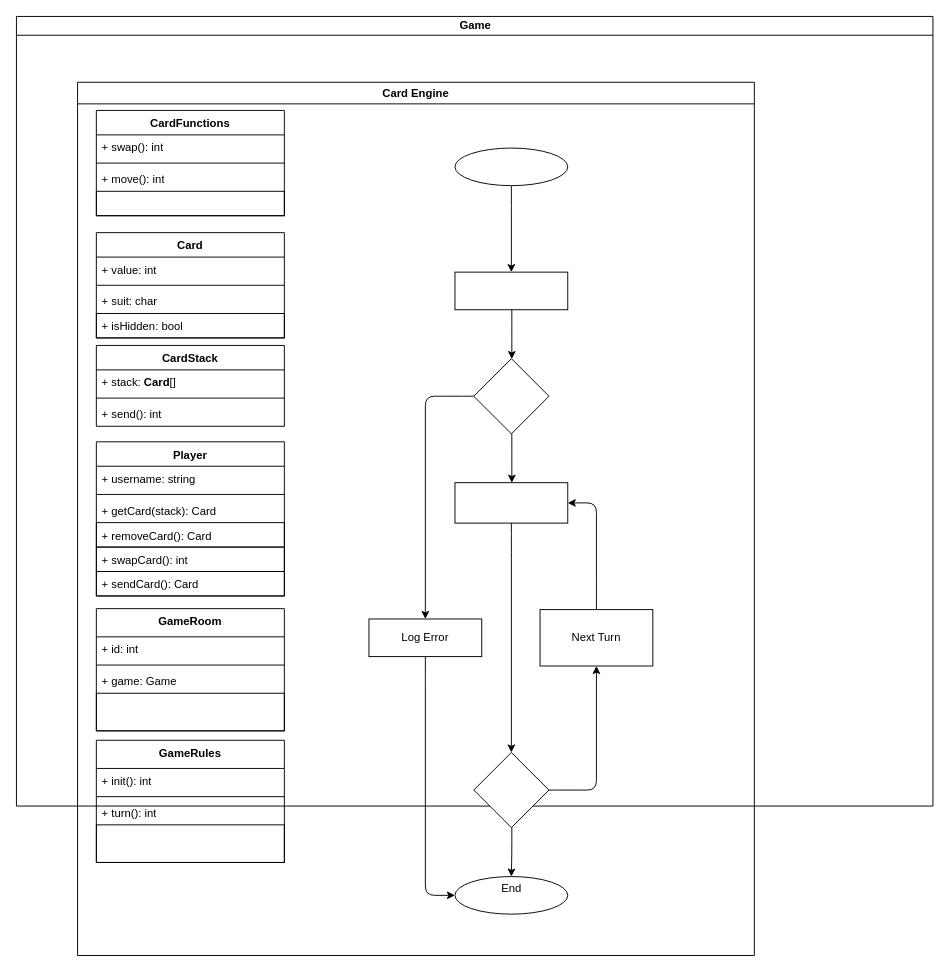
This 949x972 diagram has some shape labels left out. Each missing label, with the centre of its shape:
"+ cardRules: function" belongs at (189,843).
"+ deal(): int" belongs at (189,203).
"+ players: Player []" belongs at (189,711).
"Has won?" belongs at (511,790).
"Initialize" belongs at (511,290).
"ok?" belongs at (511,396).
"Play Turn" belongs at (511,502).
"Start" belongs at (511,166).
